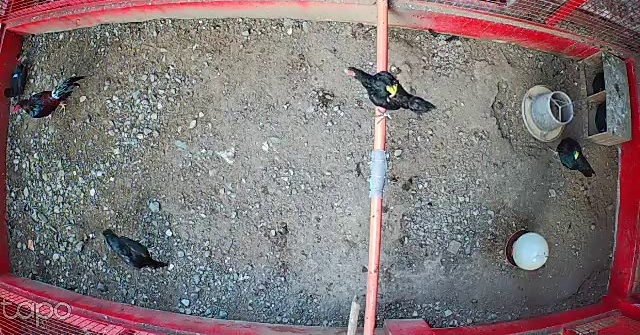Chicken: (342, 61, 433, 124), (101, 227, 176, 276), (545, 134, 599, 179), (4, 60, 32, 103)
Rooster: (10, 74, 91, 125)
Saddle_Color_Blue: (14, 73, 19, 77)
Saddle_Color_Yellow: (383, 82, 400, 101)
Saddle_Color_YellowGreen: (572, 151, 580, 159)
